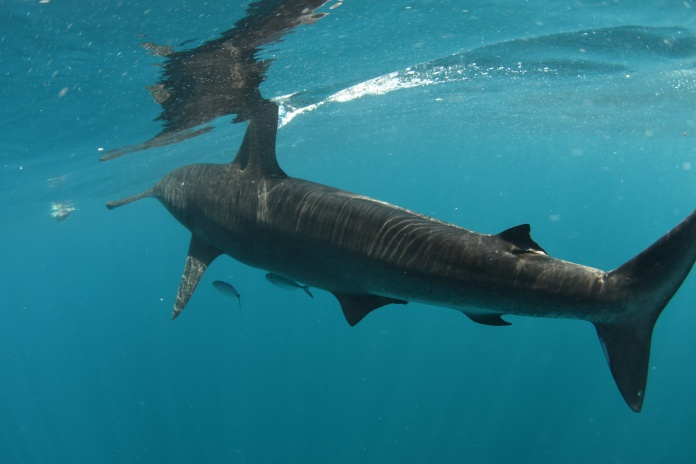Hammer: (93, 92, 696, 416)
